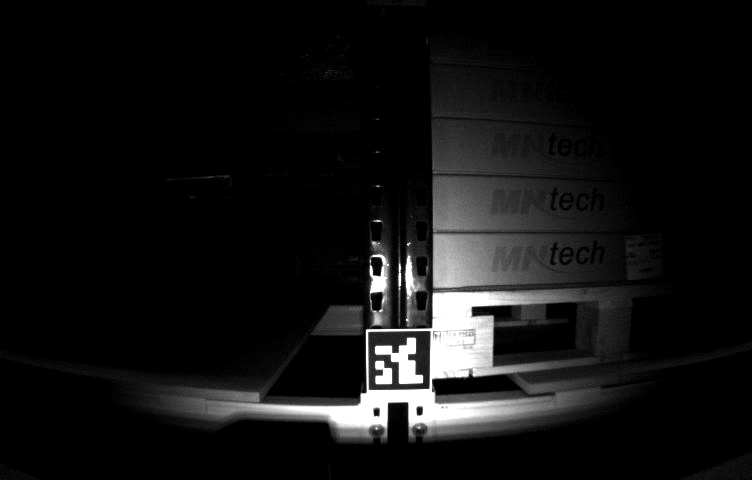True Barcode: (620, 234, 677, 286)
